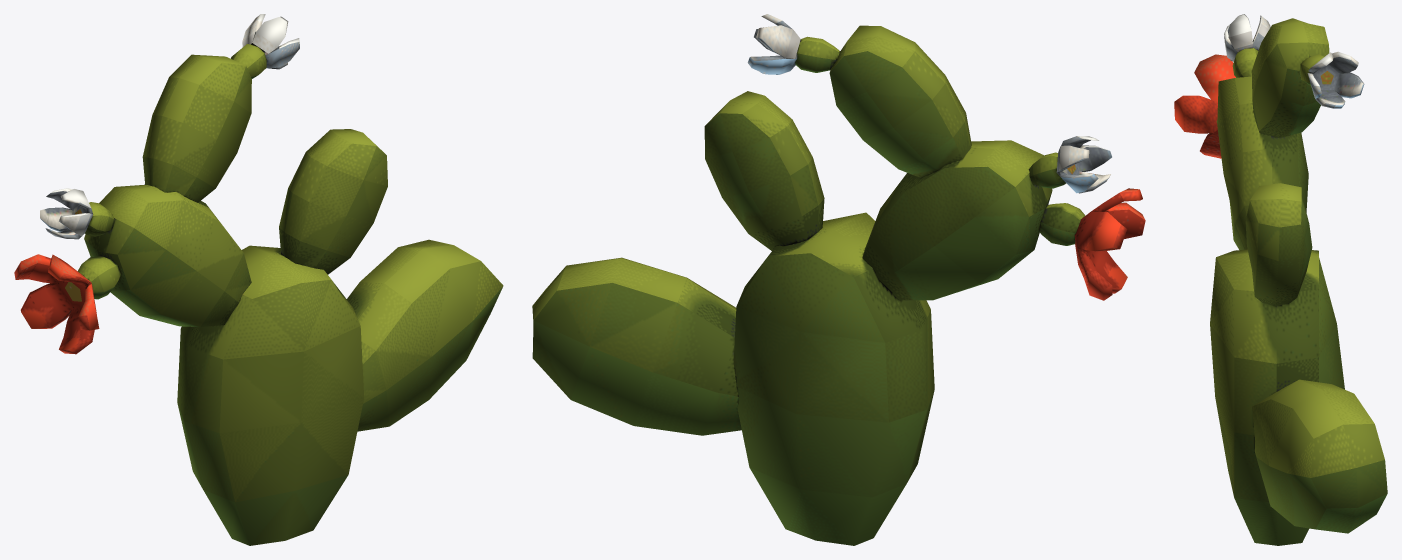
Rendered from Plant-Prickly-Pear-Cactus-GB.fbx.
3 renders of one model, left to right at view 1: azimuth 30°, elevation 25°; view 2: azimuth 150°, elevation 25°; view 3: azimuth 270°, elevation 25°, orthographic. The views are drawn at different scales.
Visible parts, largest first — view 1: prickly_pear_cactus; view 2: prickly_pear_cactus; view 3: prickly_pear_cactus.
Part boxes in pixels (left/top/right/bottom): prickly_pear_cactus: left=14, top=14, right=503, bottom=545; prickly_pear_cactus: left=532, top=14, right=1145, bottom=545; prickly_pear_cactus: left=1174, top=14, right=1387, bottom=545.
Size of the model in its own units: 96.87 by 88.07 by 34.98.
1 material, 1 textured.
